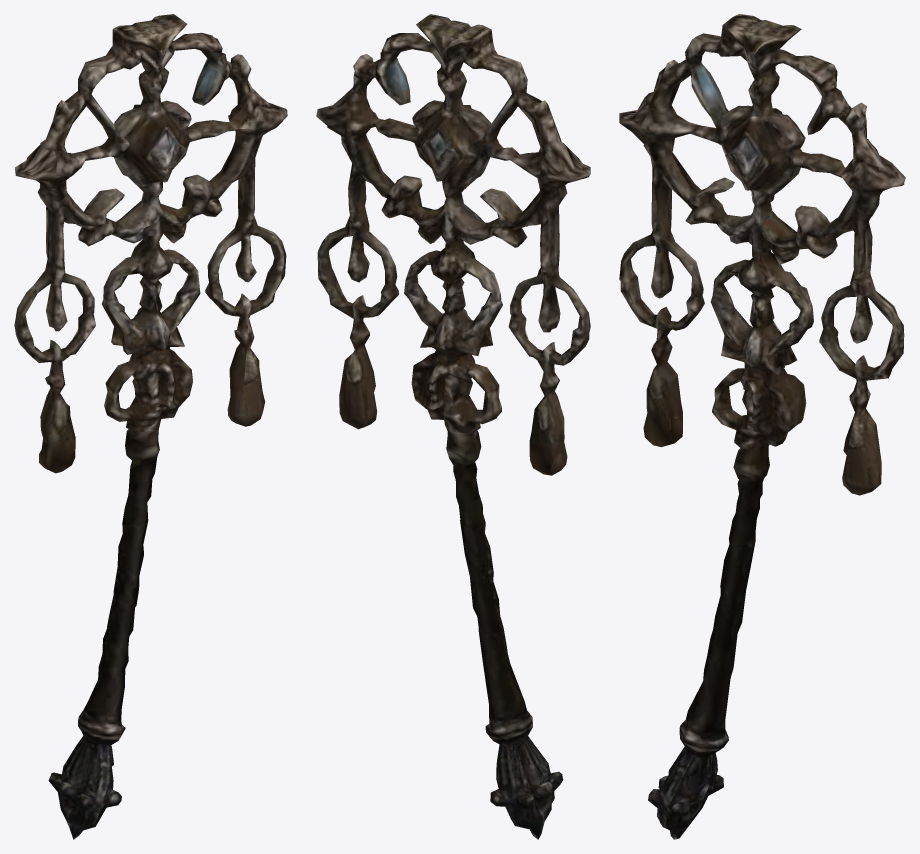
File: wpn_dizang.glb
3 views of the same model, side by side, from view 1: azimuth 30°, elevation 25°; view 2: azimuth 150°, elevation 25°; view 3: azimuth 330°, elevation 25° (orthographic). The views are drawn at different scales.
Visible parts, largest first — view 1: tripo_node_d2592537-80c6-4b70-bd6f-63da4ef93393; view 2: tripo_node_d2592537-80c6-4b70-bd6f-63da4ef93393; view 3: tripo_node_d2592537-80c6-4b70-bd6f-63da4ef93393.
Boxes of the visible parts, x1,y1,x2,y2 form: tripo_node_d2592537-80c6-4b70-bd6f-63da4ef93393: (14, 14, 287, 839); tripo_node_d2592537-80c6-4b70-bd6f-63da4ef93393: (316, 14, 590, 839); tripo_node_d2592537-80c6-4b70-bd6f-63da4ef93393: (619, 14, 905, 839).
Bounding box in the file's own units: 0.3503 × 0.9794 × 0.094.
1 material, 1 textured.
